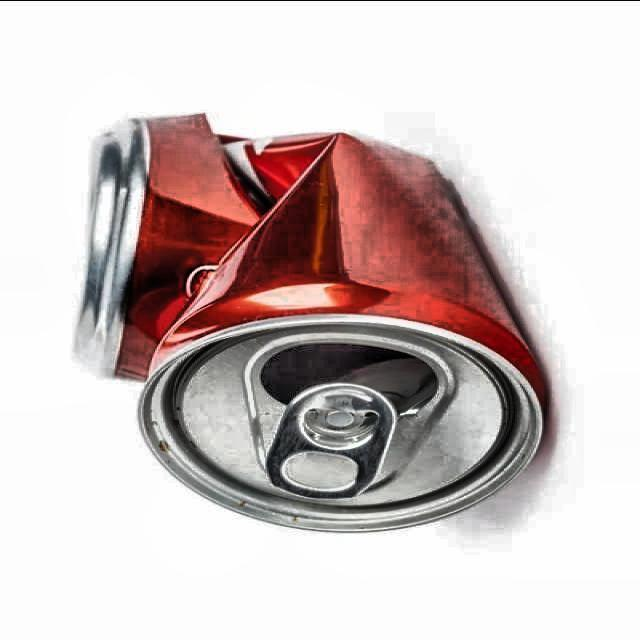metal: (66, 112, 550, 537)
